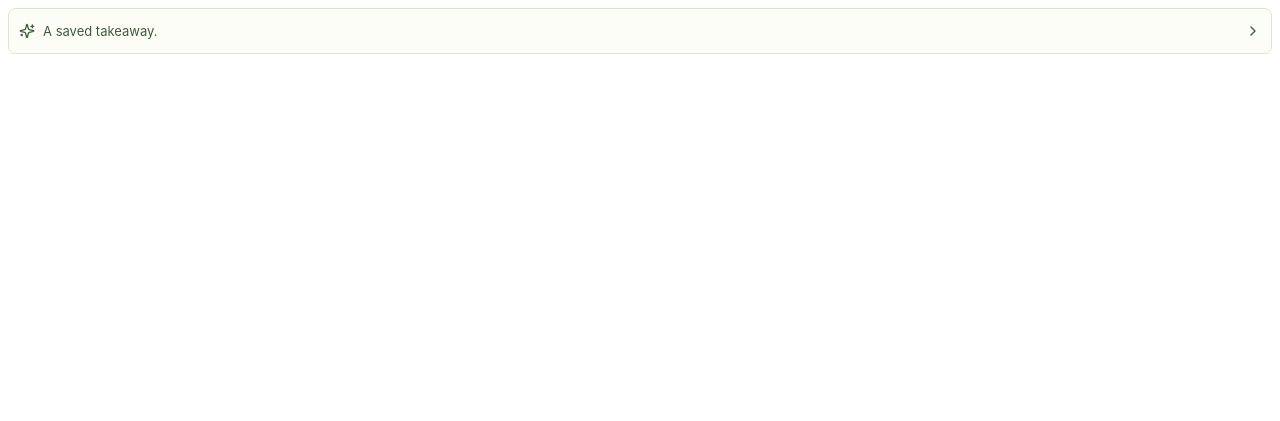
Test: saved note cards › shows an AI takeaway while keeping its full answer behind a separate resize-aware toggle
The image size is (1280, 421).
Click the button with aria-label "Expand note:": (100, 31) [9,9,1271,53]
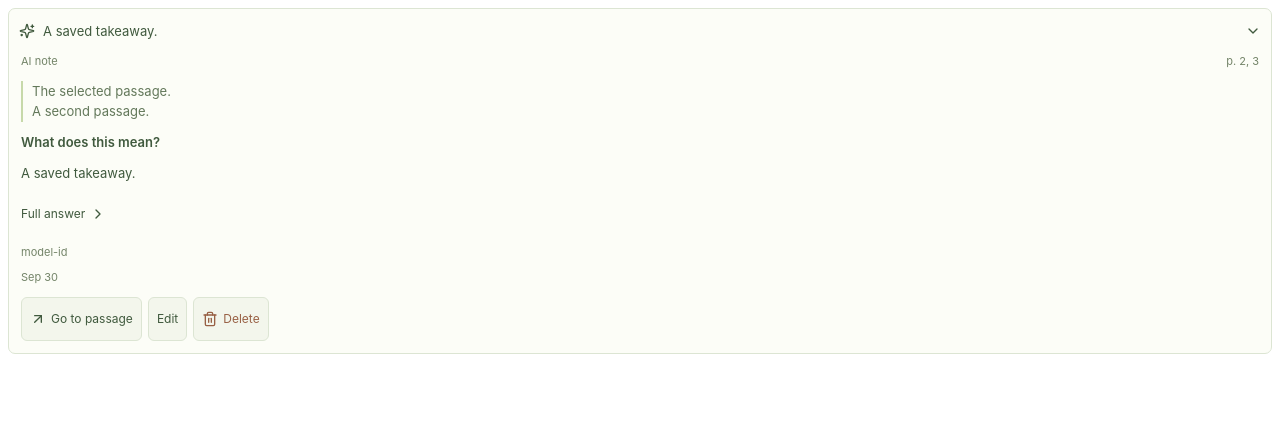
Expected: the text "More detail" is not shown
Result: the text with class "note-card-body" reads "A saved takeaway." at [21,165,136,181]
Click the button "Full answer": (64, 214) [21,192,106,236]
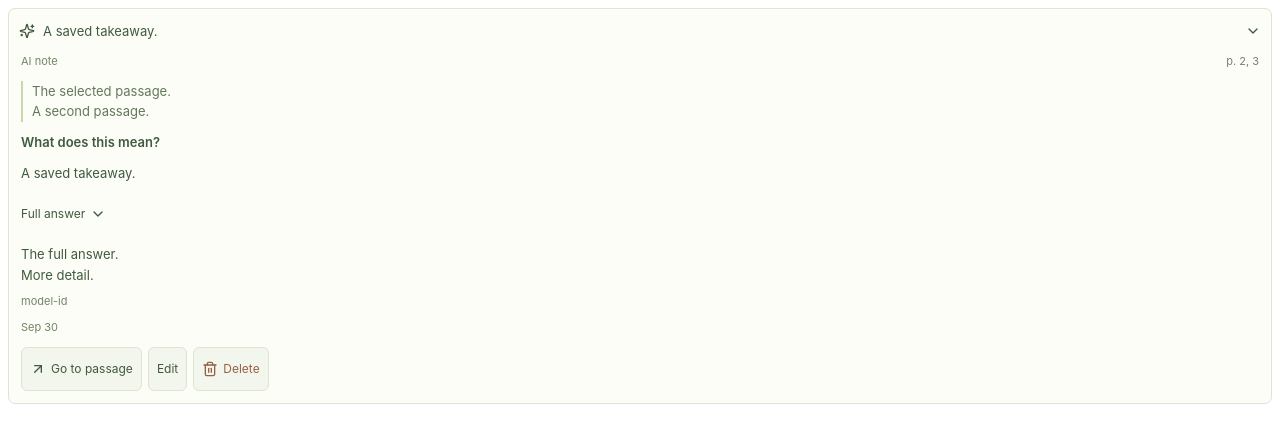
Result: the button "Full answer" is expanded
Click the button "Full answer": (64, 214) [21,192,106,236]
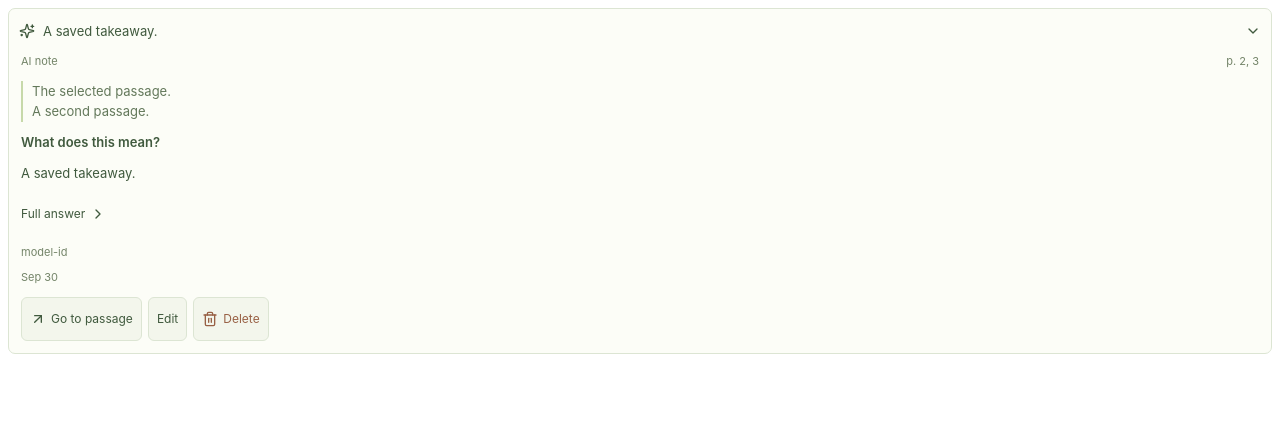
Result: the text "The full answer. More detail." is gone
